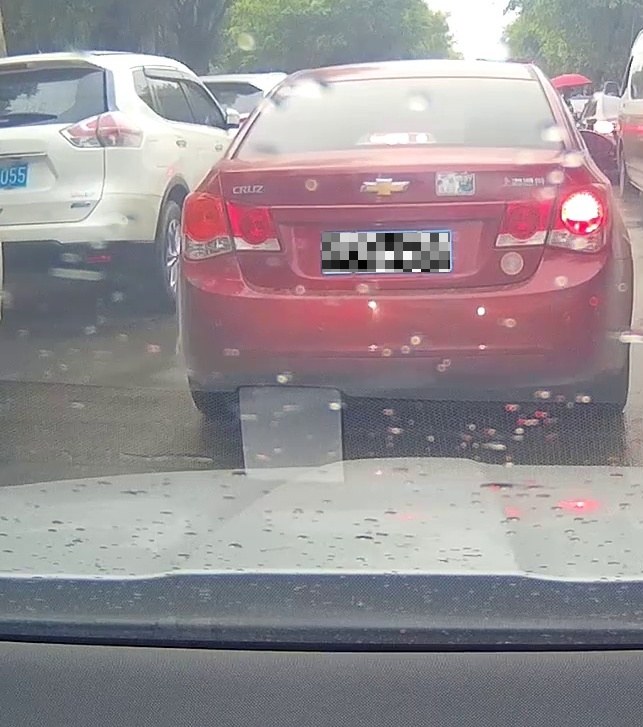L_light: (177, 191, 285, 261)
R_light: (492, 185, 612, 253)
T_light: (369, 131, 436, 144)
day-right: (174, 66, 618, 417)
plate_1: (322, 233, 450, 272)
